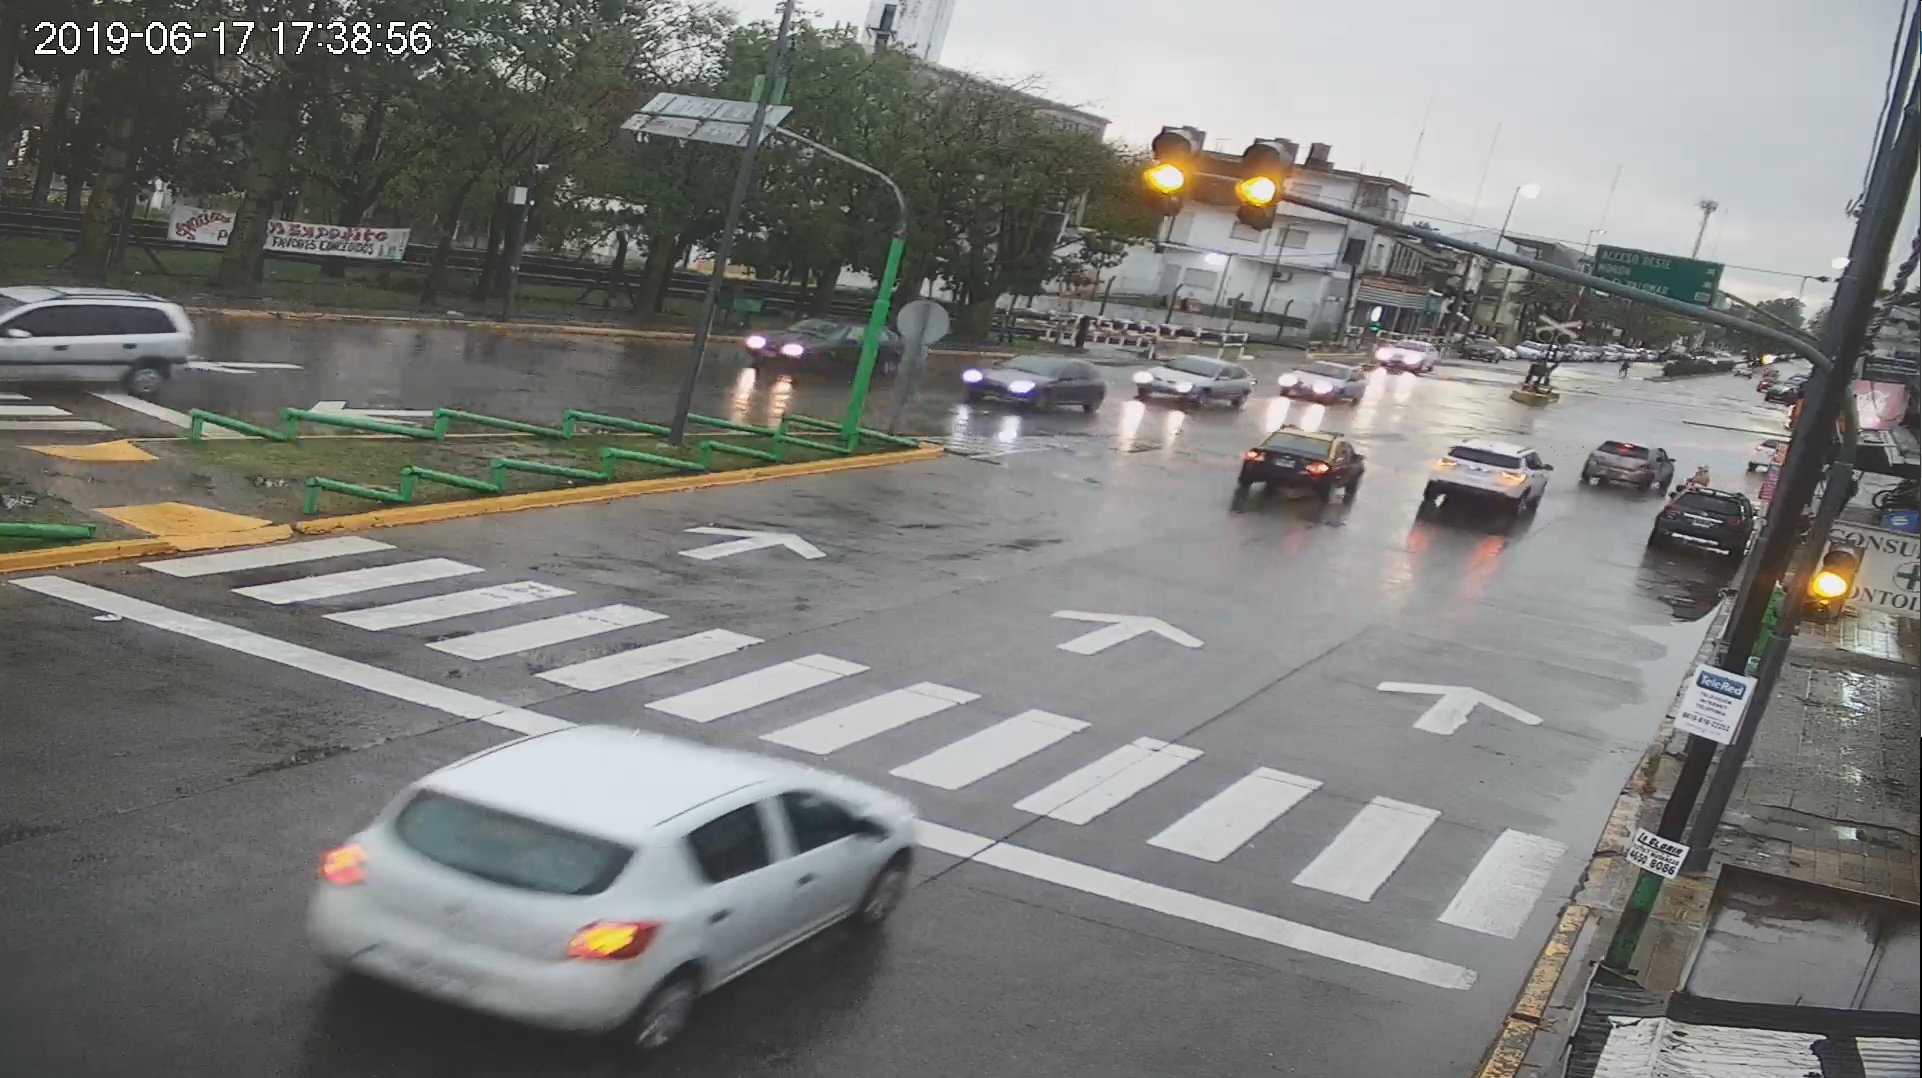car: (300, 713, 931, 1078), (1, 256, 201, 417), (1415, 428, 1558, 538), (738, 297, 911, 383), (956, 338, 1104, 431), (1238, 424, 1372, 517), (1134, 348, 1258, 428), (1643, 482, 1760, 566), (1583, 435, 1683, 499), (1269, 350, 1372, 409)
